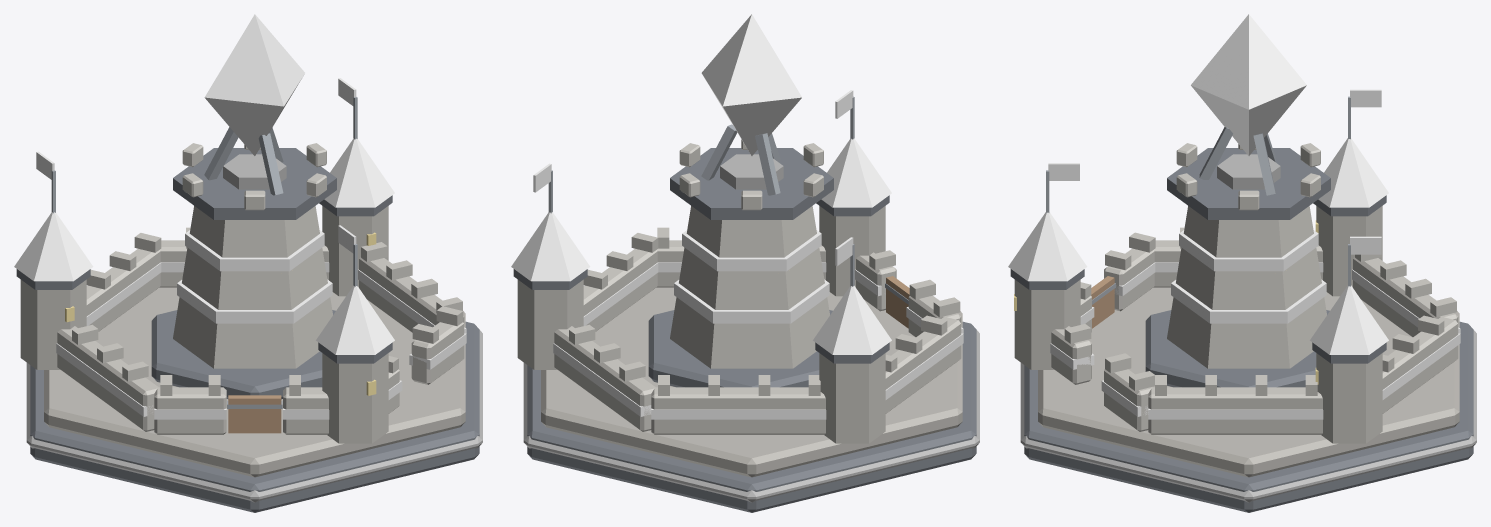
File: core_1.glb
3 views of the same model, side by side, from view 1: azimuth 30°, elevation 25°; view 2: azimuth 150°, elevation 25°; view 3: azimuth 270°, elevation 25° (orthographic).
Visible parts, largest first — view 1: main, crystal; view 2: main, crystal; view 3: main, crystal.
Part boxes in pixels (<box>): main: <box>14,78,482,512</box>; crystal: <box>204,14,304,155</box>; main: <box>511,90,979,512</box>; crystal: <box>701,14,801,155</box>; main: <box>1008,89,1476,512</box>; crystal: <box>1191,14,1306,155</box>.
Size of the model in its own units: 1.97 by 1.63 by 1.77.
